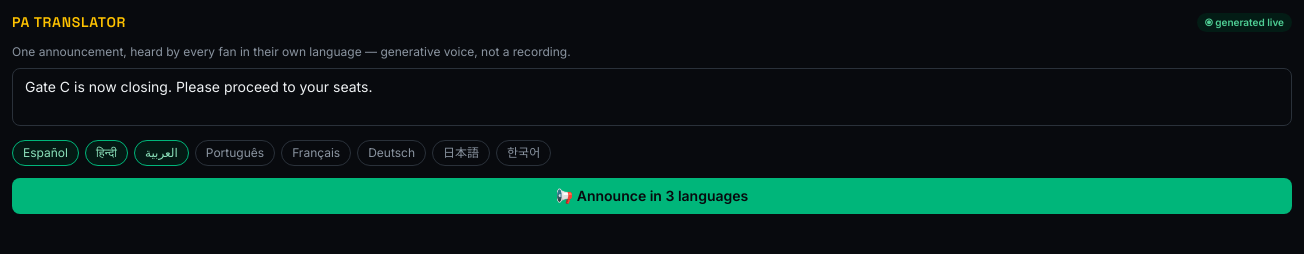
Test case: PaTranslatorPanel › handles unauthorized and synthesis failures without hiding the operator error
Click the button "📢 Announce in 3 languages" at x=652, y=196, box [12,178,1292,214]
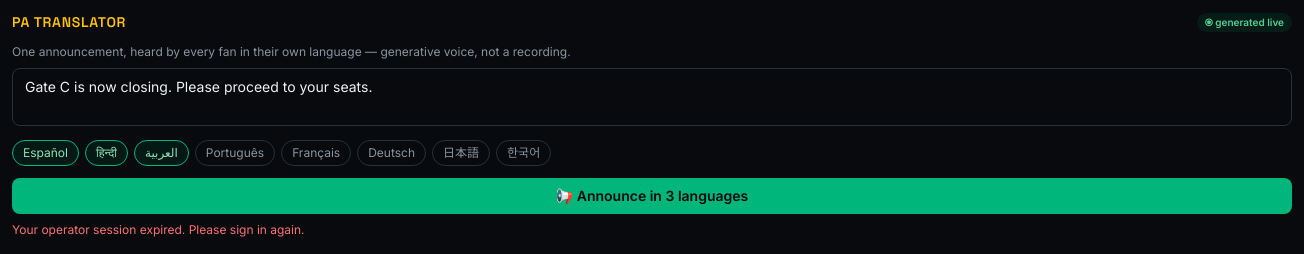
Now the message reads "Your operator session expired. Please sign in again.", box [12,222,304,237]
